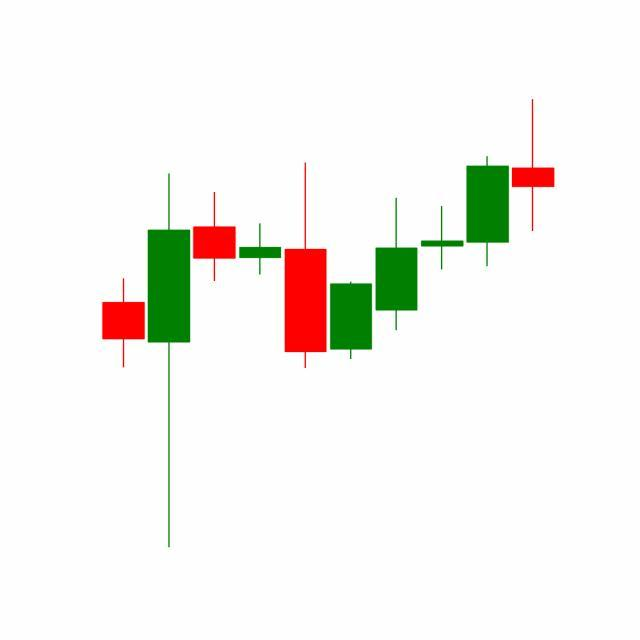Hikkake Pattern: (283, 154, 512, 372)
